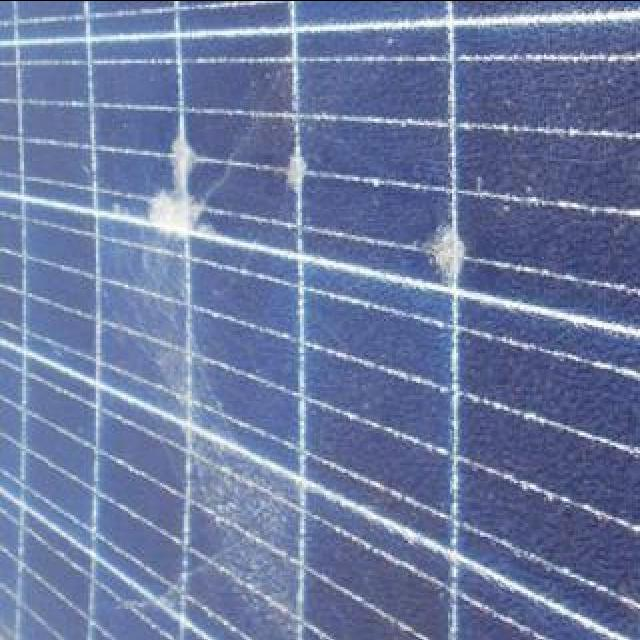cracked: (4, 4, 638, 636)
